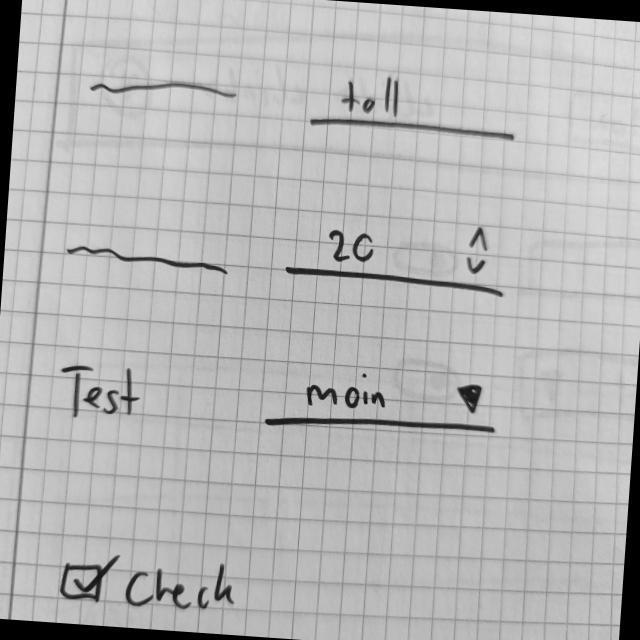checkbox: (58, 548, 245, 619)
input: (308, 71, 523, 143)
label: (55, 357, 146, 433)
number-input: (285, 209, 513, 303)
select: (262, 357, 503, 445)
text: (62, 240, 233, 280), (89, 73, 239, 109)
